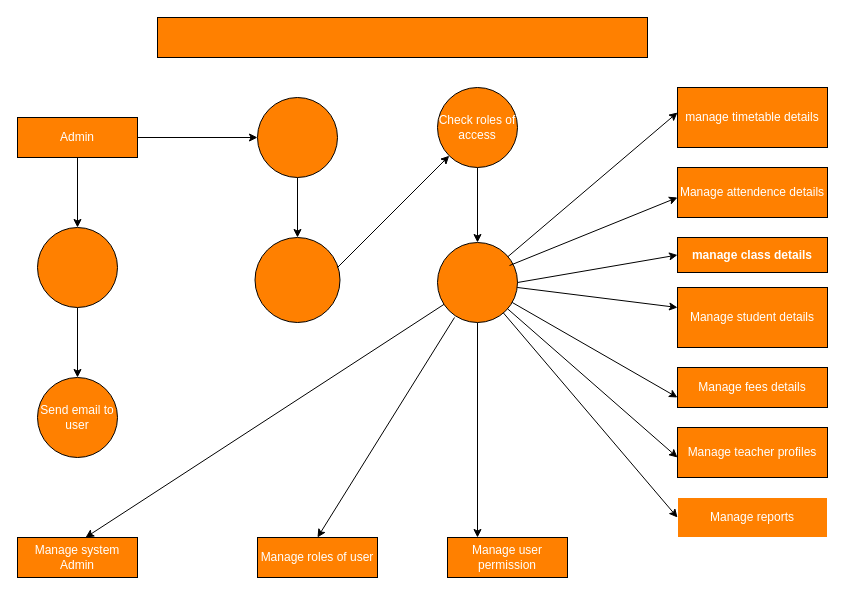
Some shapes in this 845 by 595 pixel diagram are drawn without their labels. The shapes that lost their labels are listed below. From the top down, each one's centre as x and y in pixels, then its label:
At (402,37): "student information system".
At (297,137): "Login to system".
At (77,267): "Forgot password".
At (297,279): "Check credentials".
At (477,282): "Manage modules".
